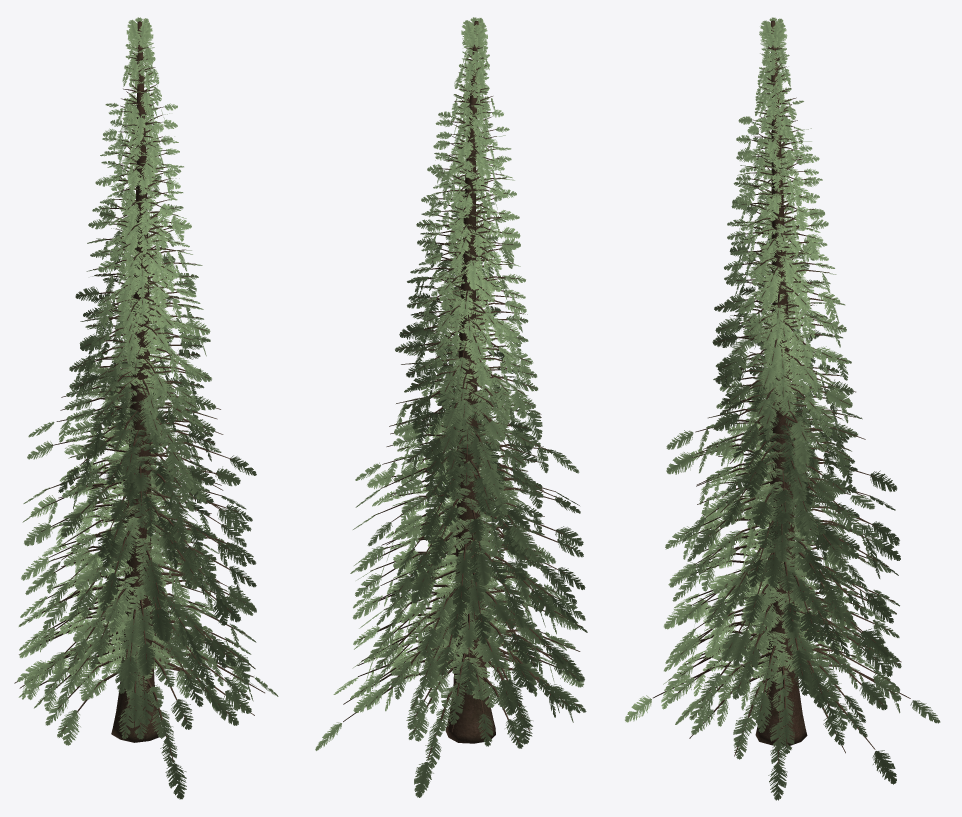
File: baldcypress_v03_LOD1.fbx
The picture shows the model from 3 angles, left to right: view 1: azimuth 30°, elevation 25°; view 2: azimuth 150°, elevation 25°; view 3: azimuth 270°, elevation 25°; orthographic projection.
Visible parts, largest first — view 1: baldcypress_v03_LOD1; view 2: baldcypress_v03_LOD1; view 3: baldcypress_v03_LOD1.
Boxes of the visible parts, x1,y1,x2,y2 form: baldcypress_v03_LOD1: [14, 17, 278, 799]; baldcypress_v03_LOD1: [315, 17, 587, 797]; baldcypress_v03_LOD1: [625, 17, 940, 800].
Bounding box in the file's own units: 1093 × 1247 × 3054.
Materials: 2 (2 with a texture image).
